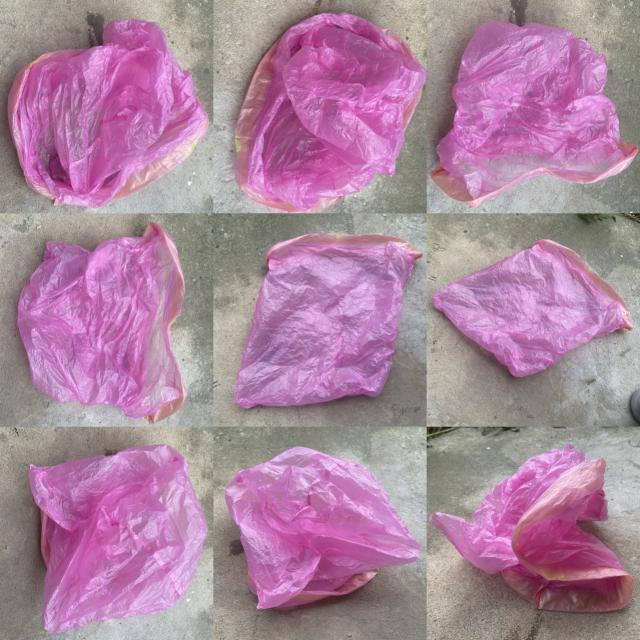Single-layer Plastic: (430, 21, 638, 208), (235, 12, 426, 212), (8, 19, 209, 207), (18, 222, 186, 424), (429, 445, 632, 612), (29, 445, 208, 633), (225, 446, 420, 609), (235, 234, 414, 408), (432, 240, 632, 377)
